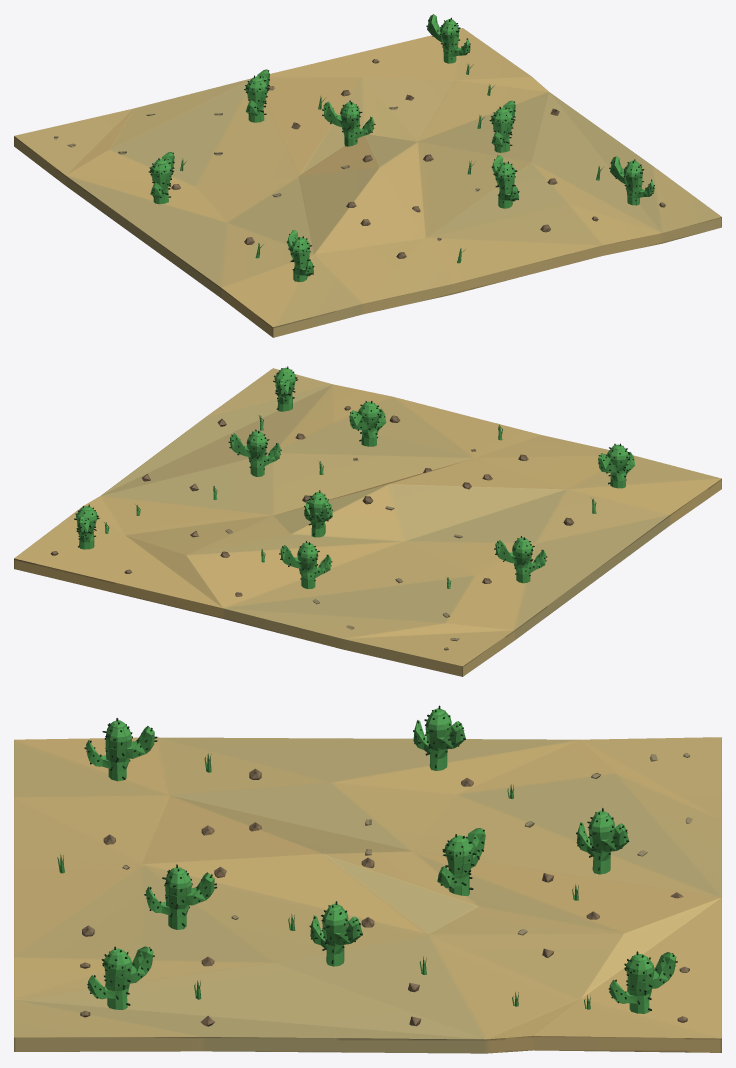
File: modelDraco.gltf
The picture shows the model from 3 angles, top to bottom: view 1: azimuth 30°, elevation 25°; view 2: azimuth 150°, elevation 25°; view 3: azimuth 270°, elevation 25°; orthographic projection. The views are drawn at different scales.
Visible parts, largest first — view 1: node-0; view 2: node-0; view 3: node-0.
Boxes of the visible parts, x1,y1,x2,y2 form: node-0: (14,14,721,337); node-0: (14,366,721,676); node-0: (14,705,721,1053).
Bounding box in the file's own units: 1000 × 132 × 1000.
Materials: 1 (1 with a texture image).
